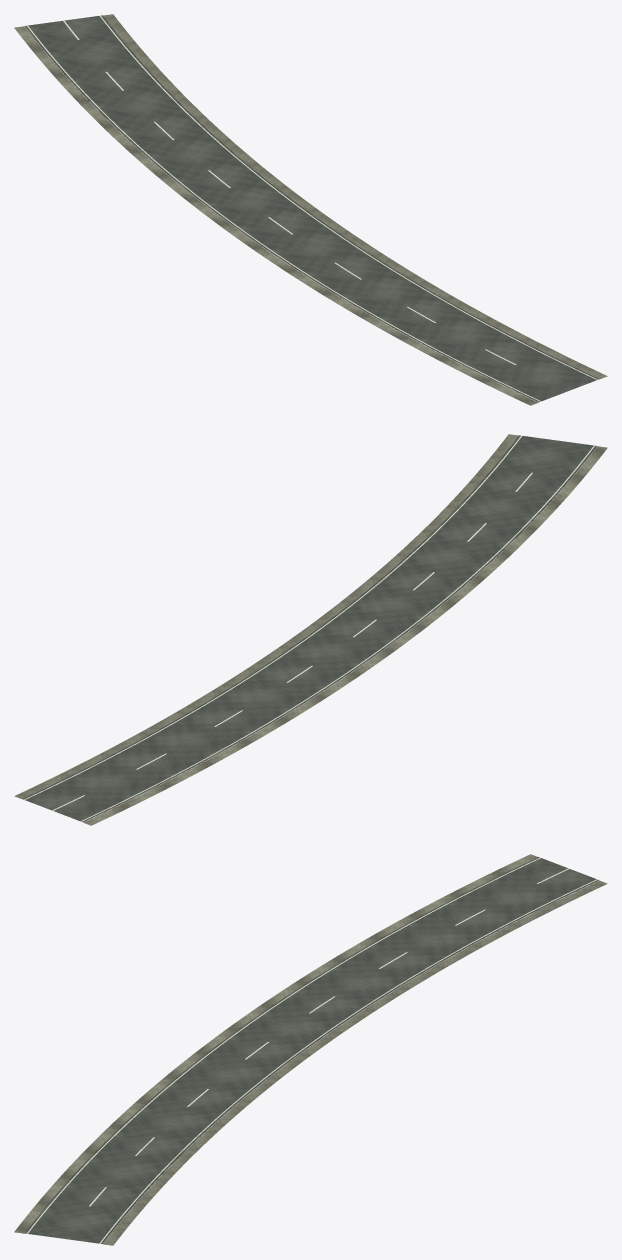
The model's file is road_countryside_curve_64m.glb.
3 renders of one model, top to bottom at view 1: azimuth 30°, elevation 25°; view 2: azimuth 150°, elevation 25°; view 3: azimuth 330°, elevation 25°, orthographic.
Visible parts, largest first — view 1: road_surface, static_gravel, static_road_marking; view 2: road_surface, static_gravel, static_road_marking; view 3: road_surface, static_gravel, static_road_marking.
Part boxes in pixels (left/top/right/bottom): road_surface: left=25, top=15, right=599, bottom=402; static_gravel: left=14, top=14, right=607, bottom=405; static_road_marking: left=27, top=15, right=597, bottom=401; road_surface: left=22, top=435, right=596, bottom=822; static_gravel: left=14, top=434, right=607, bottom=825; static_road_marking: left=24, top=435, right=594, bottom=821; road_surface: left=24, top=857, right=599, bottom=1243; static_gravel: left=14, top=854, right=607, bottom=1245; static_road_marking: left=27, top=857, right=597, bottom=1243.
Bounding box in the file's own units: 10.01 × 0.027 × 65.39.
3 materials, 2 textured.
